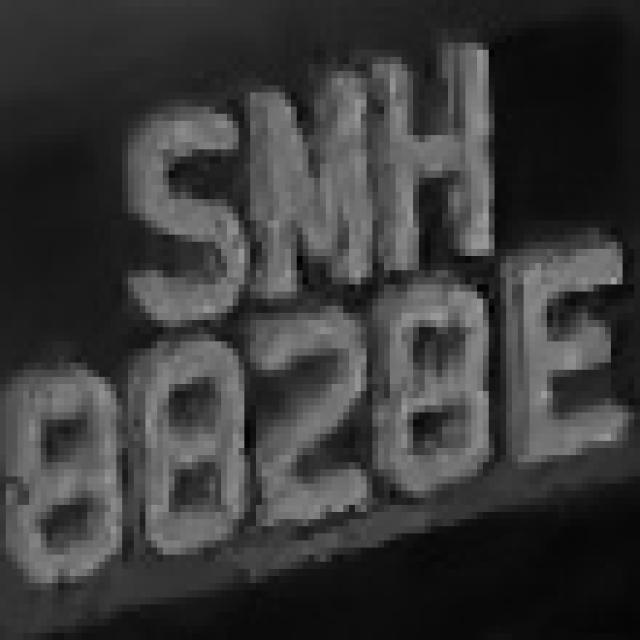2: (245, 284, 372, 548)
8: (122, 313, 256, 576), (12, 327, 128, 597), (378, 270, 506, 505)
E: (512, 206, 628, 498)
H: (361, 43, 506, 284)
M: (239, 71, 384, 306)
S: (110, 78, 238, 342)
